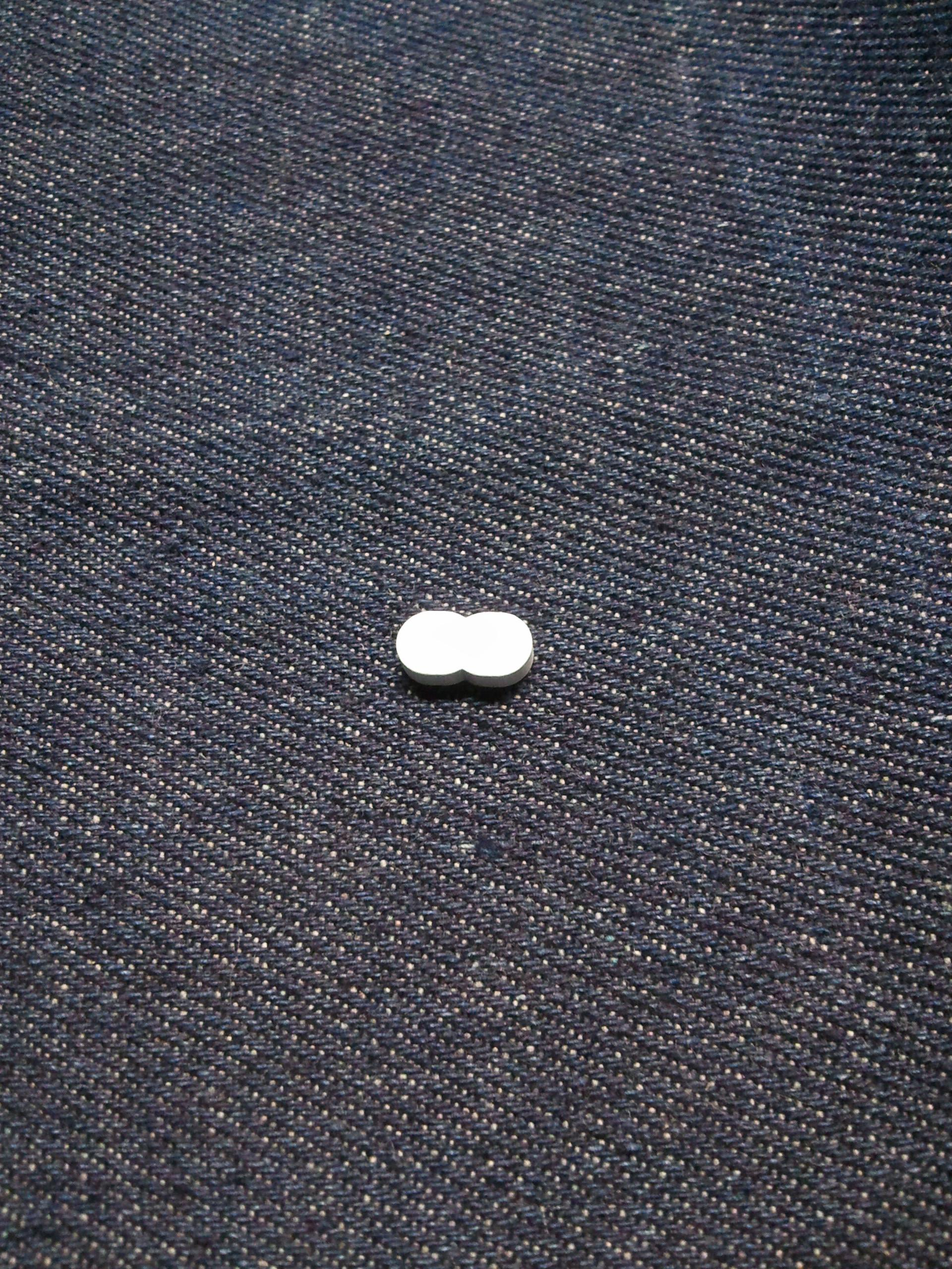Pill: (357, 595, 562, 705)
